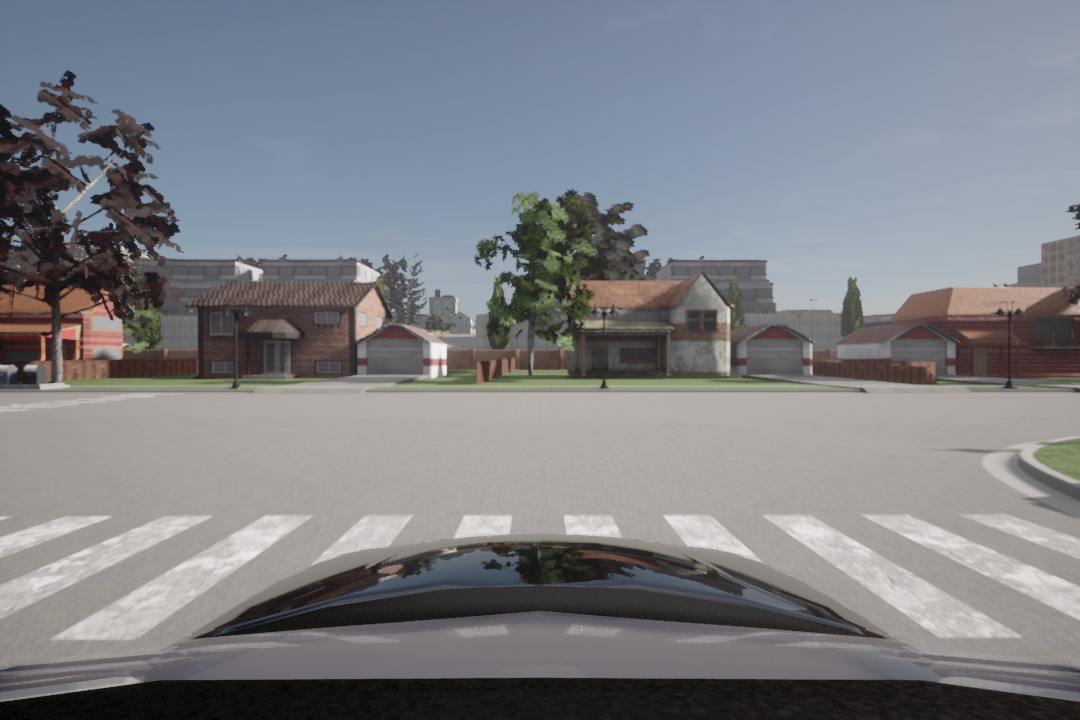walkside: (10, 501, 1080, 647)
